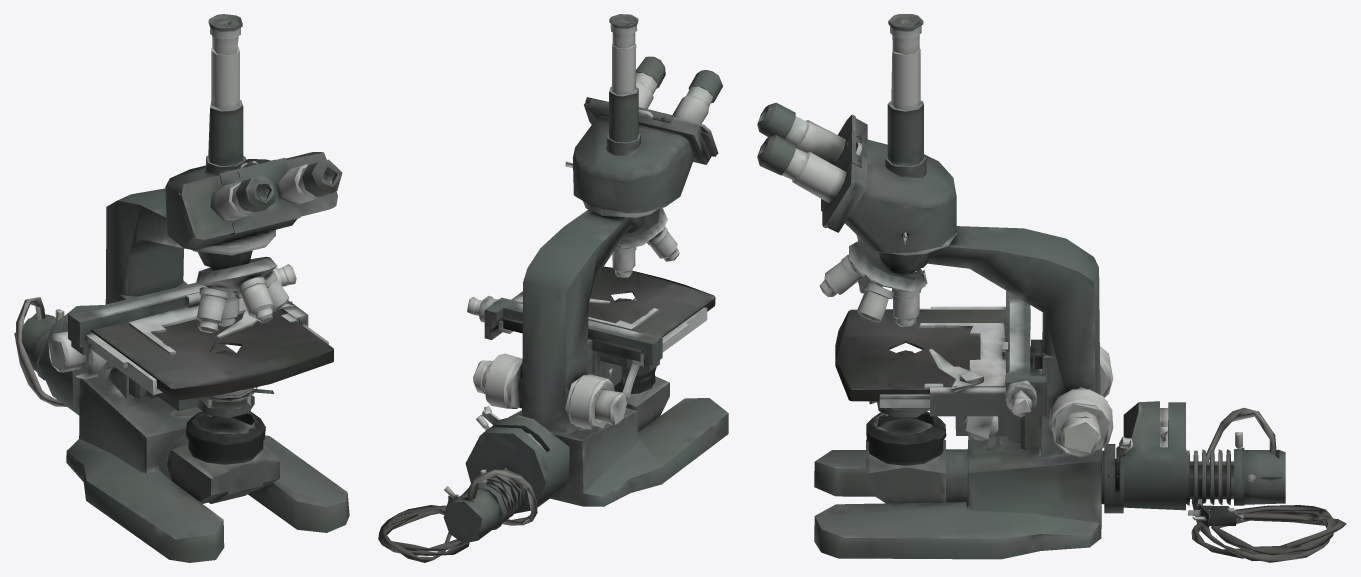
Rendered from design-industrial-microscope.glb.
3 views of the same model, side by side, from view 1: azimuth 30°, elevation 25°; view 2: azimuth 150°, elevation 25°; view 3: azimuth 270°, elevation 25° (orthographic). The views are drawn at different scales.
Parts seen in each view (by area): view 1: industrial_microscope_cable; view 2: industrial_microscope_cable; view 3: industrial_microscope_cable.
Part boxes in pixels (bbox=[...]): industrial_microscope_cable: bbox=[14, 14, 349, 562]; industrial_microscope_cable: bbox=[378, 14, 728, 562]; industrial_microscope_cable: bbox=[757, 14, 1346, 562].
Size of the model in its own units: 0.2145 by 0.4613 by 0.4981.
1 material, 1 textured.
